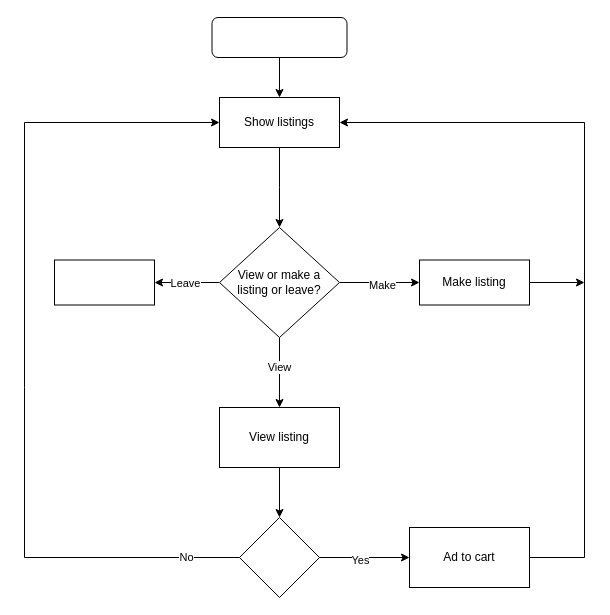
Some shapes in this 610 by 615 pixel diagram are drawn without their labels. The centre of each missing label's shape, as x and y in pixels:
"Ad to cart?" belongs at point 279,557.
"Leave webshop page" belongs at point 104,282.
"vist webshop" belongs at point 279,37.
